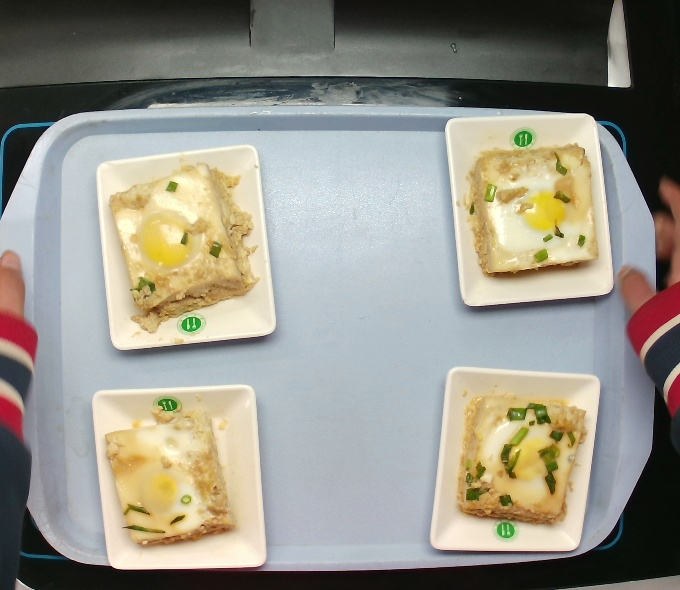wcq-RouMoZhengDan: (452, 130, 621, 293), (90, 399, 260, 557), (113, 167, 261, 332), (440, 378, 590, 539)
